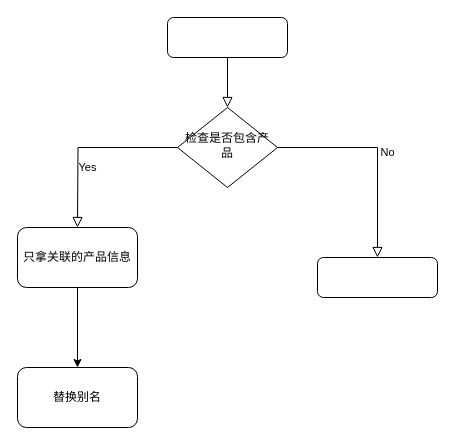
Image size: 455x445. Some labels were removed from this diagram. Here are the shapes that lost their labels. From the top down, the centre of each, then its label:
At (227,37): "提问".
At (377,277): "kmean".
